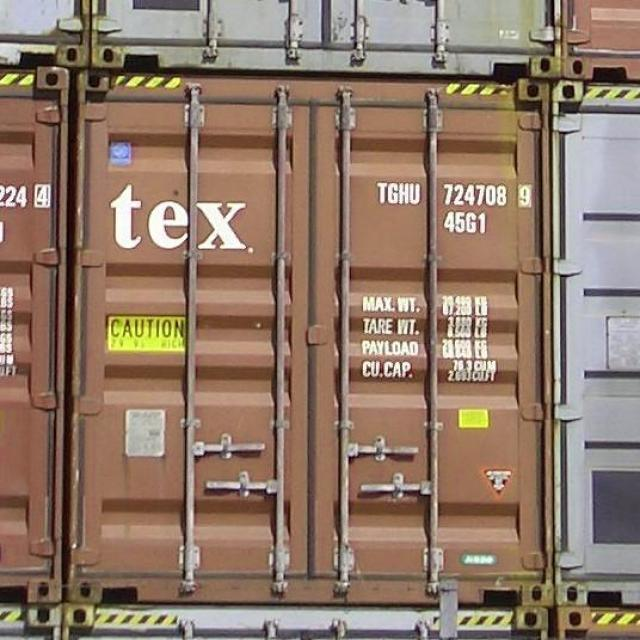ISO: (436, 208, 502, 240)
container_number: (371, 172, 538, 210)
